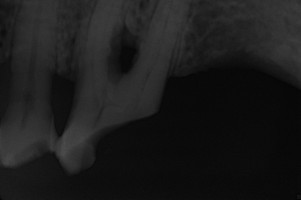Endo-Periodontal Lesion: (109, 21, 144, 80)
